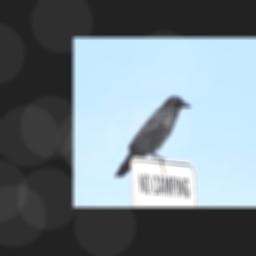Crow: (113, 95, 191, 177)
